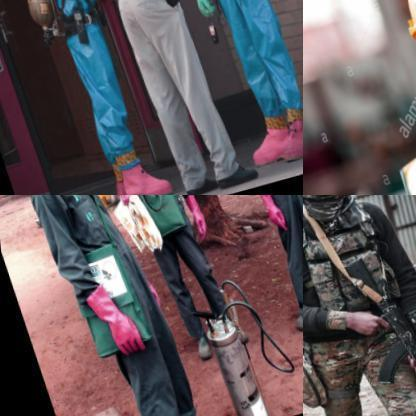vest: (303, 195, 414, 365), (374, 78, 415, 194), (14, 0, 112, 48)
